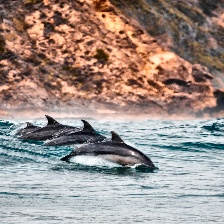dolphin: (25, 115, 155, 168)
